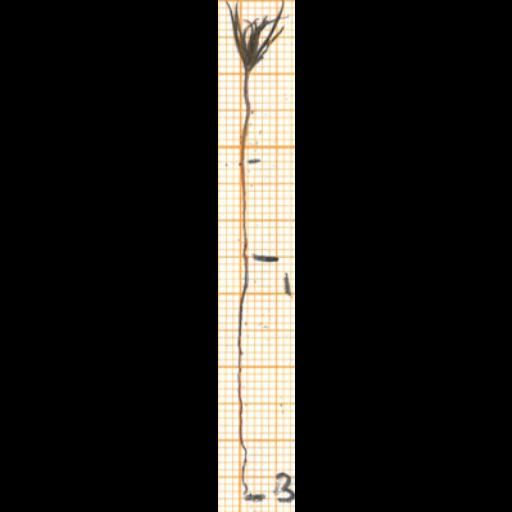flowerPinus: (225, 0, 284, 73)
rootPinus: (237, 285, 248, 494), (239, 159, 246, 257)
stemPinus: (239, 69, 250, 164)
